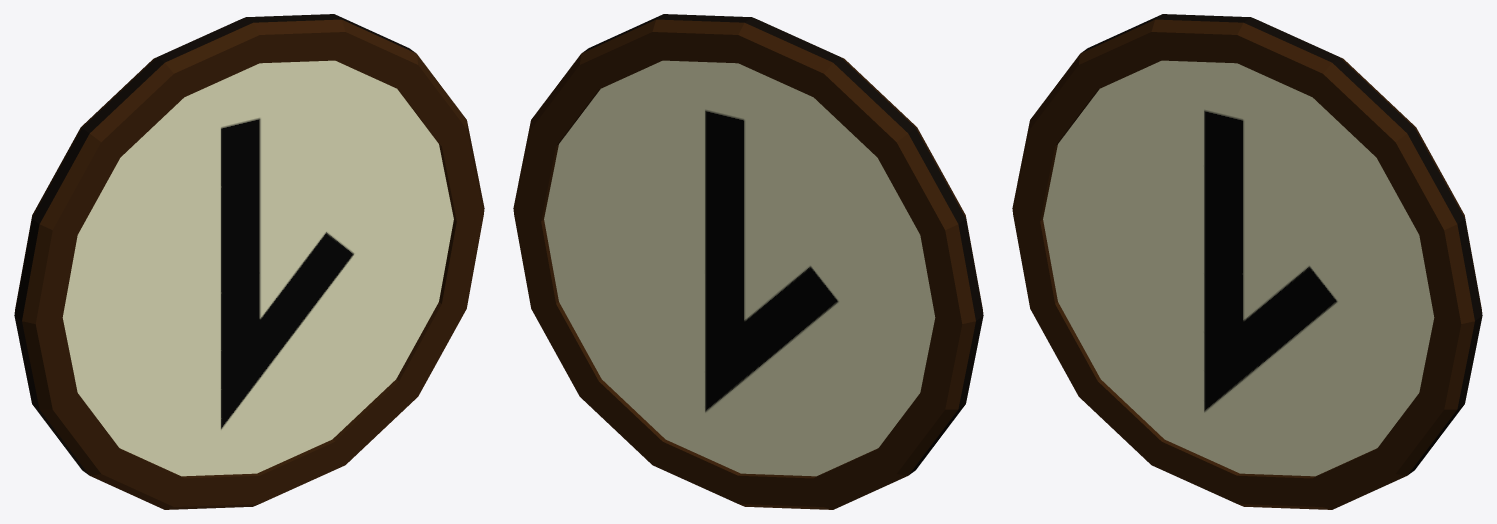
The model's file is coin1A(F114).obj.
3 views of the same model, side by side, from view 1: azimuth 30°, elevation 25°; view 2: azimuth 150°, elevation 25°; view 3: azimuth 330°, elevation 25° (orthographic).
Parts seen in each view (by area): view 1: Cylinder; view 2: Cylinder; view 3: Cylinder.
Part boxes in pixels (box(x1,y1,x2,y2)): Cylinder: box(14, 14, 484, 509); Cylinder: box(513, 14, 983, 509); Cylinder: box(1012, 14, 1482, 509).
Size of the model in its own units: 2.06 by 2.06 by 0.159.
